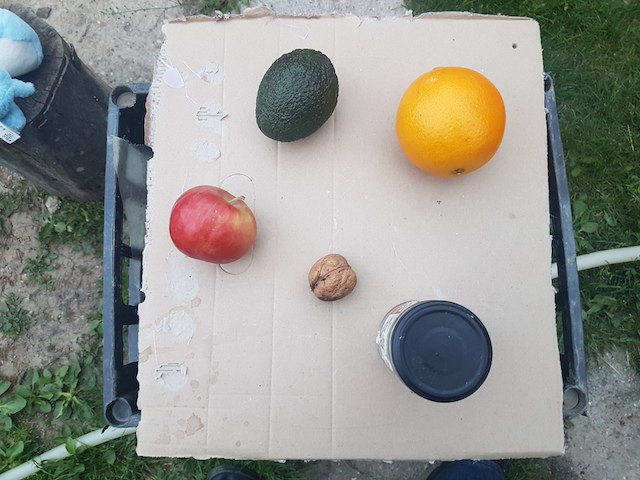apple: (167, 180, 262, 265)
avocado: (254, 45, 342, 144)
nut: (305, 249, 358, 303)
orange: (394, 62, 508, 178)
recipient: (387, 298, 492, 405)
